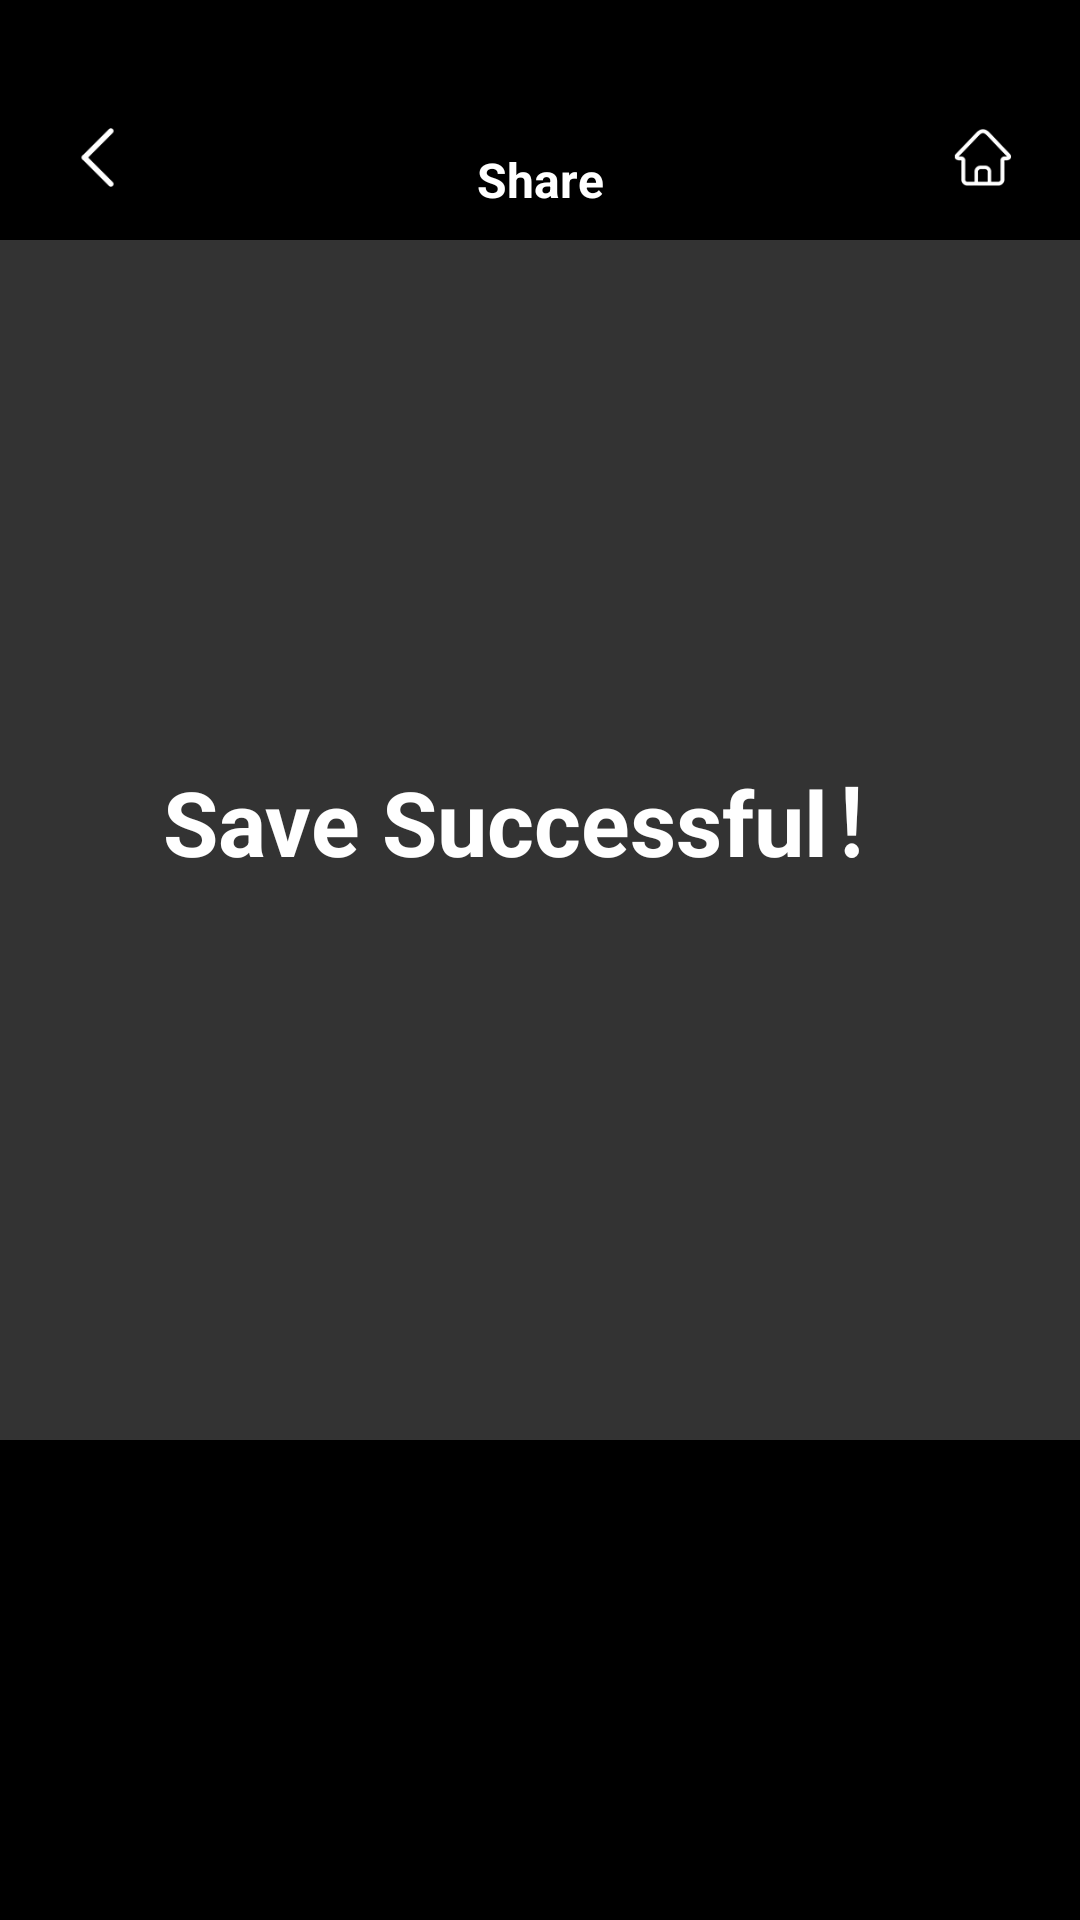

Named icons in this screenshot (1080*1920) and their bounding boxes, (x1, y1, x2, y2):
back: (81, 128, 114, 187)
home: (954, 129, 1011, 186)
